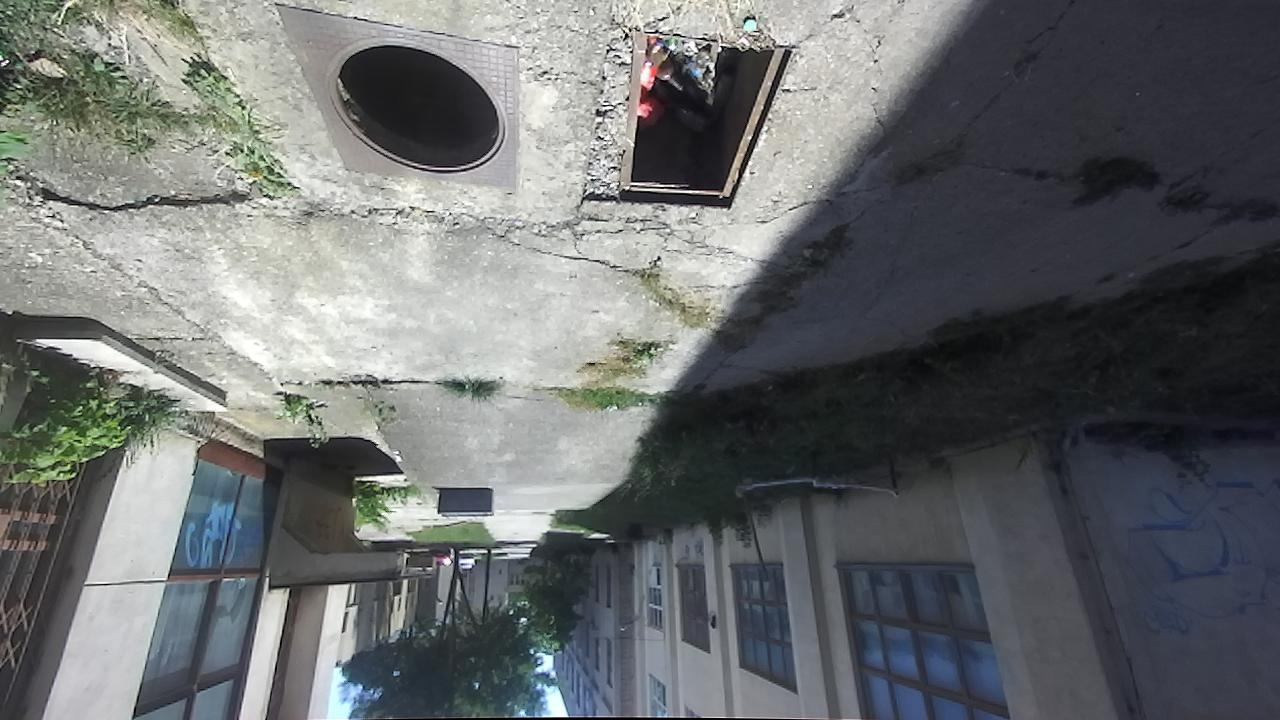drain: (613, 33, 795, 211), (323, 40, 511, 177)
